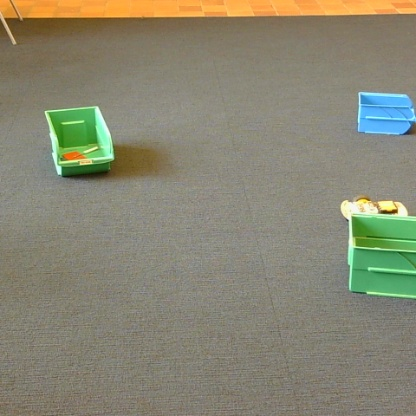robot: (341, 195, 407, 219)
